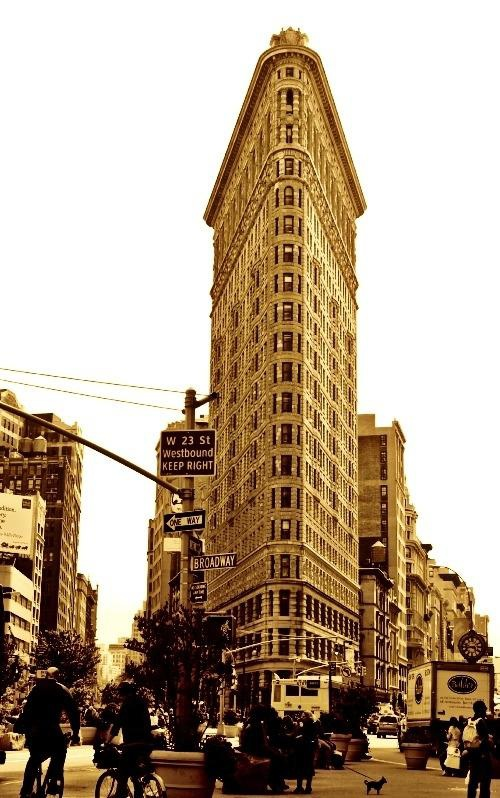non-vehicle: (92, 740, 167, 797), (23, 731, 81, 797)
